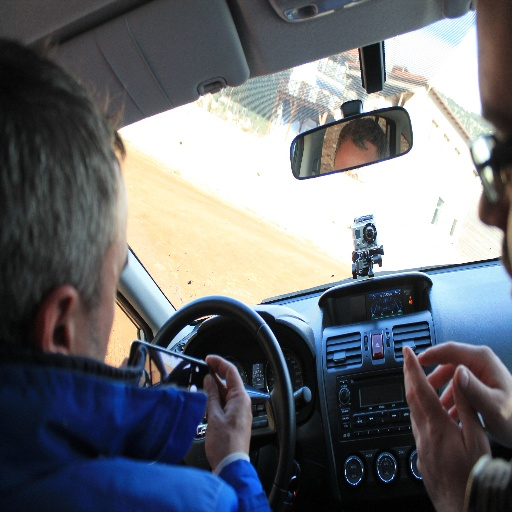hand: (401, 346, 491, 511), (201, 353, 253, 470), (118, 356, 128, 370)
